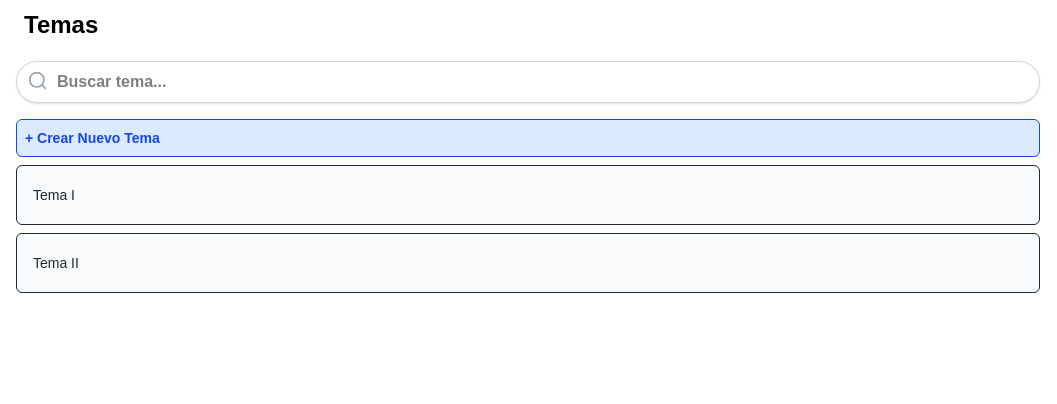
it: SubjectPage › abre el formulario de crear nuevo tema y valida campos
Click the button "+ Crear Nuevo Tema" at x=92, y=138, box [16, 119, 1040, 157]
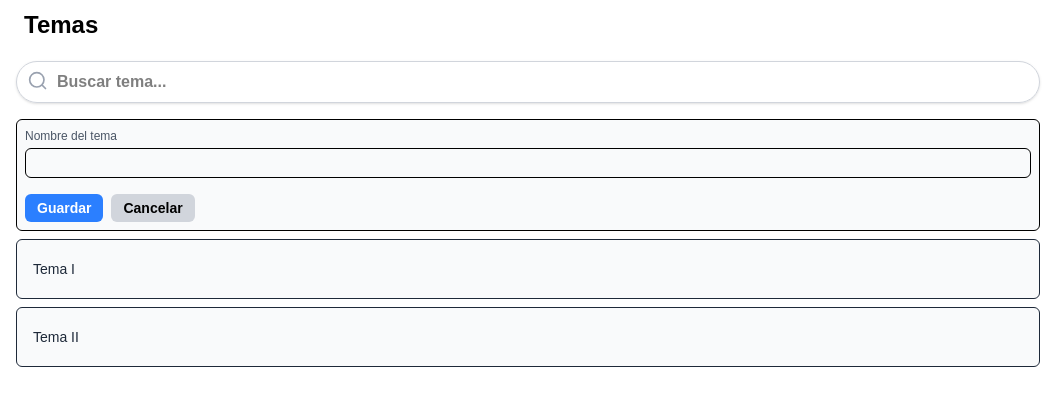
Result: the field labelled "Nombre del tema" is shown at [25, 148, 1031, 178]
# Validación requerida
Click the button "Guardar" at x=64, y=208, box [25, 194, 104, 222]
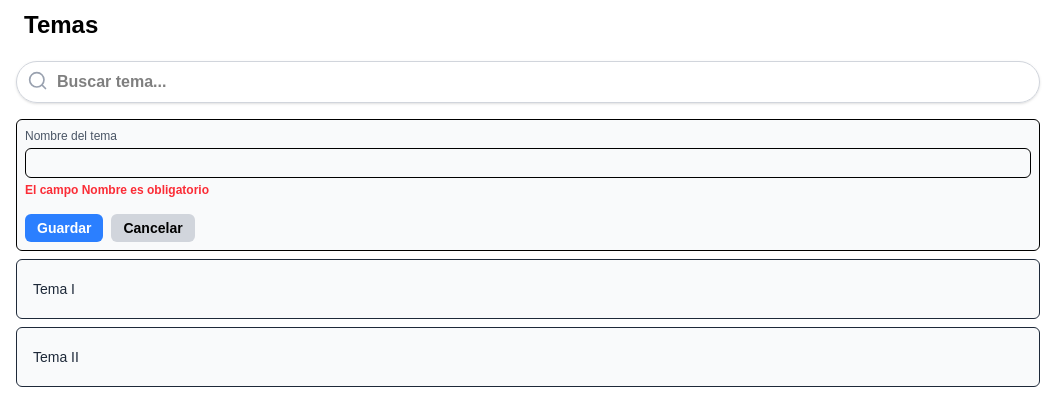
Result: the text "El campo Nombre es obligatorio" is shown at [25, 183, 209, 197]
